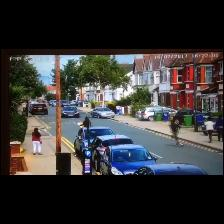person: (169, 120, 183, 146), (32, 128, 42, 154), (205, 118, 214, 142), (215, 116, 223, 141), (80, 120, 90, 127)
